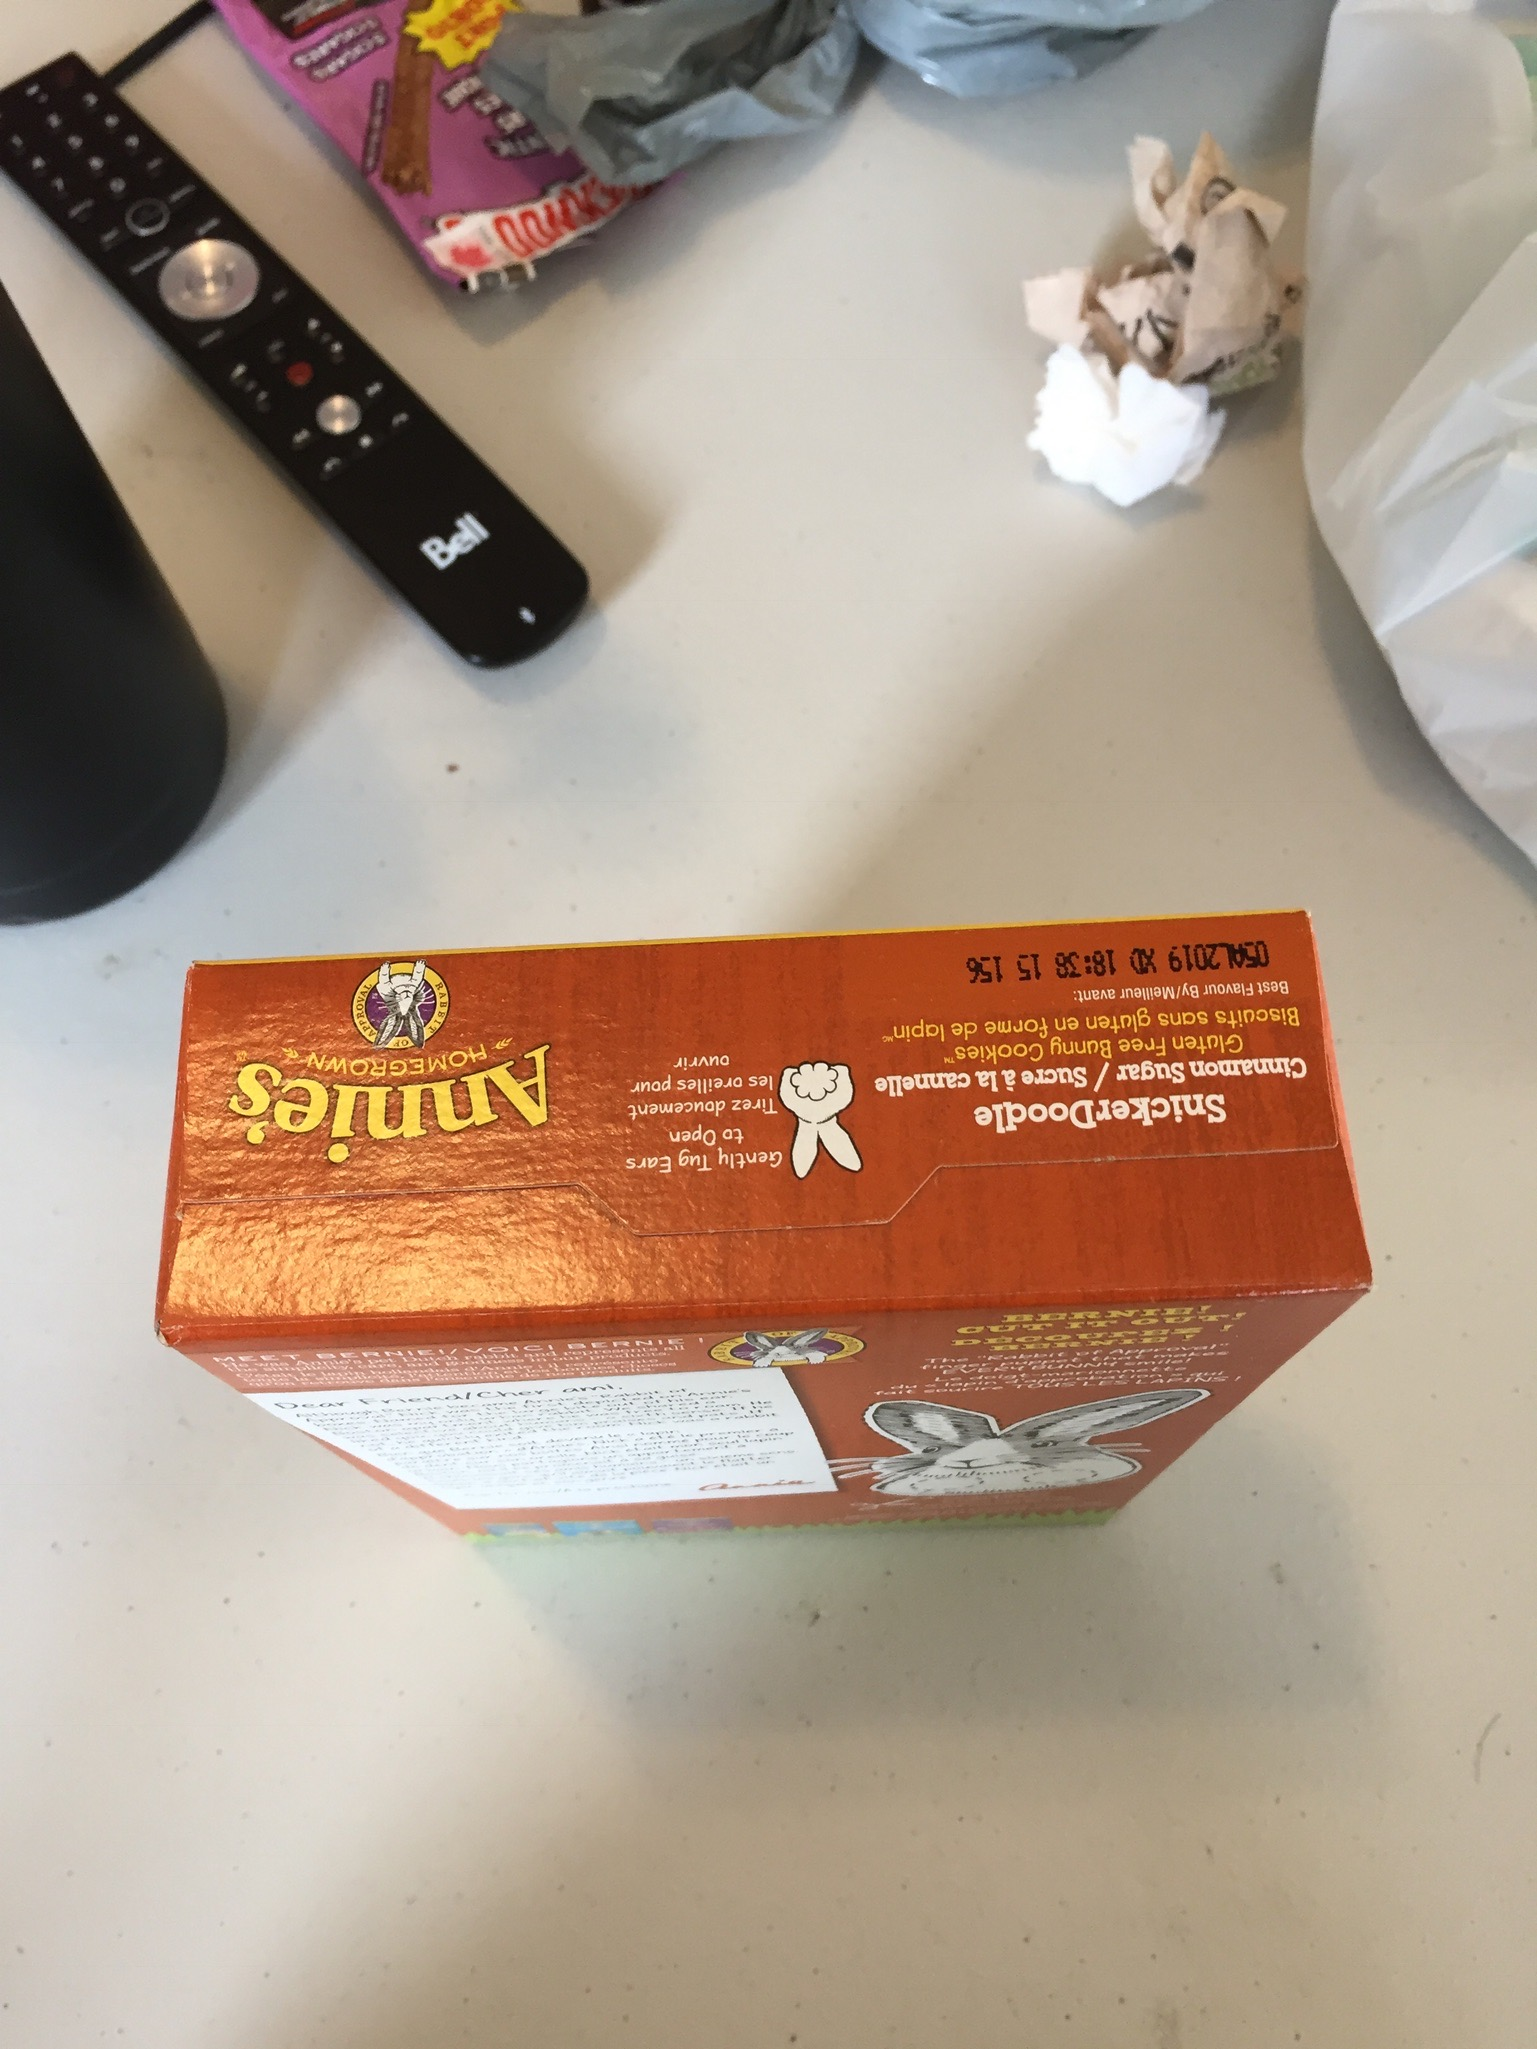annies_snickerdoodle_cinnamon_sugar: (195, 961, 1321, 1300)
